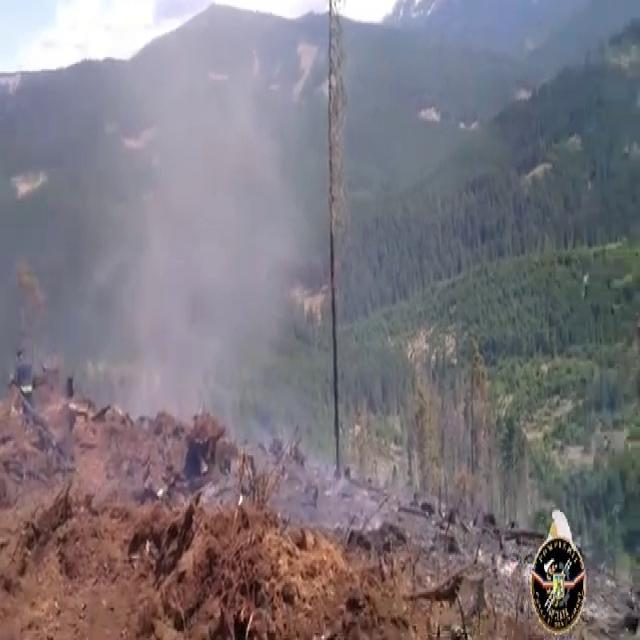Smoke: (27, 1, 403, 520)
